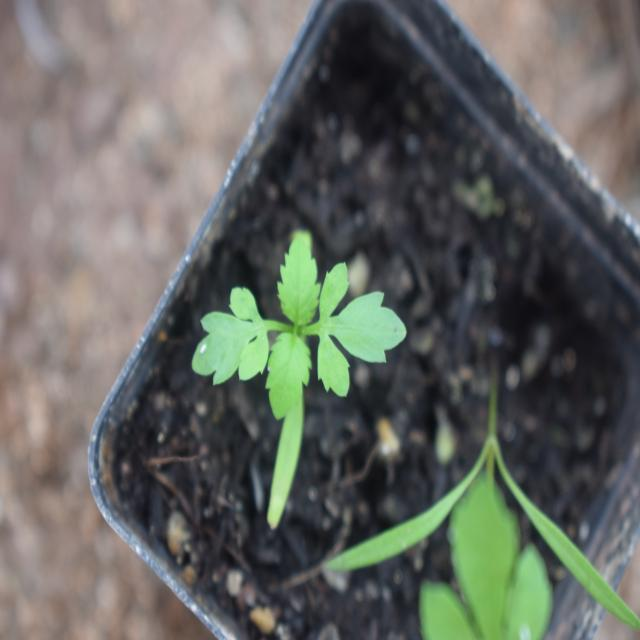Bidens pilosa: (182, 221, 414, 476)
